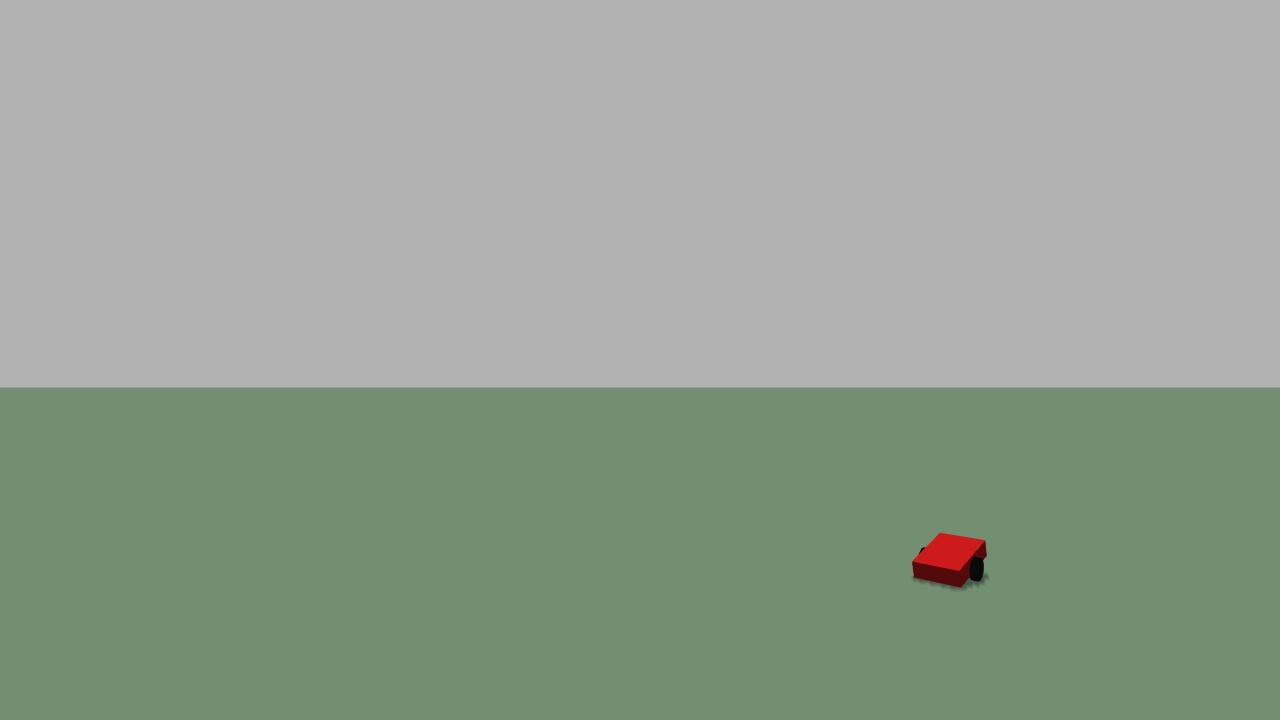ground_vehicle: (910, 508, 995, 599)
